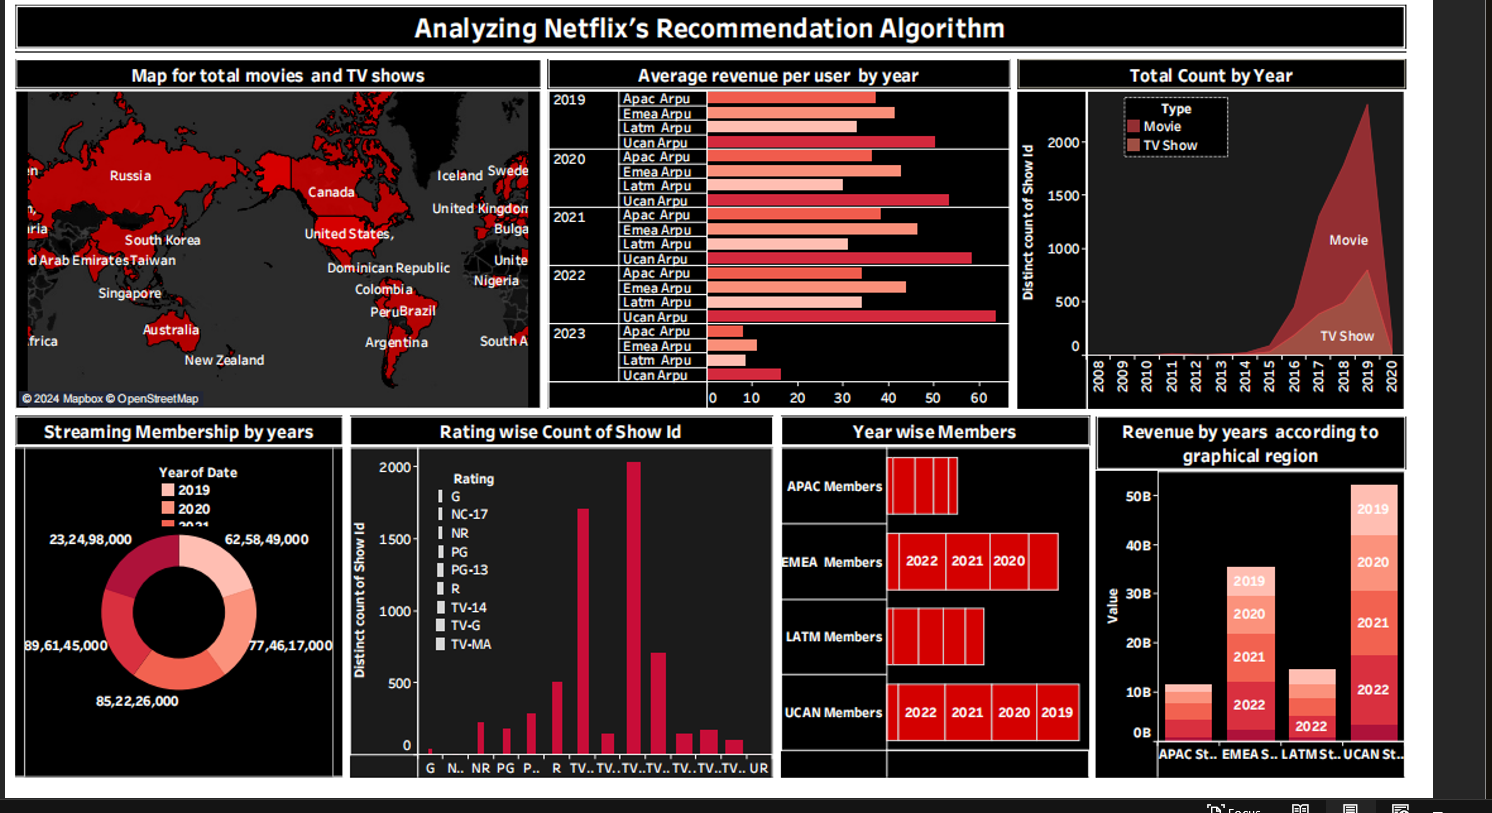

Layout of this report page (visuals, bound fields, positions):
{"tool":"tableau","page":{"name":"Dashboard 1","canvas":[1600,900],"ordinal":0},"visuals":[{"type":"worksheet","title":"Title ","mark":"Text","box":[8,8,1584,61]},{"type":"worksheet","title":"Map for total movies  and TV shows","mark":"Multipolygon","box":[8,69,604,404.7]},{"type":"worksheet","title":"Average revenue per user  by year","mark":"Bar","rows":["Date"],"box":[612,69,531.7,404.7]},{"type":"worksheet","title":"Total Count by Year","mark":"Area","rows":["show_id"],"cols":["date_added"],"box":[1143.7,69,448.3,404.7]},{"type":"legend","title":"Total Count by Year","param":"[federated.0okvbxa0sae50n101g6gw0klxju4].[none:type:nk]","box":[1269,116,118,68]},{"type":"worksheet","title":"Streaming Membership by years","mark":"Pie","rows":["Calculation_741405095042322433","Calculation_741405095043055619"],"box":[8,473.7,379.3,418.3]},{"type":"worksheet","title":"Rating wise Count of Show Id","mark":"Automatic","rows":["show_id"],"cols":["rating"],"box":[387.3,473.7,488.3,418.3]},{"type":"worksheet","title":"Year wise Members ","mark":"Bar","box":[875.6,473.7,358.2,418.3]},{"type":"worksheet","title":"revenue by year ","mark":"Bar","box":[1233.8,473.7,358.2,418.3]},{"type":"legend","title":"Streaming Membership by years","param":"[federated.1mhz30i1mz4dk916qjzma1iexdan].[yr:Date:ok]","box":[175,529.2,154,72.9]},{"type":"legend","title":"Rating wise Count of Show Id","param":"[federated.0okvbxa0sae50n101g6gw0klxju4].[none:rating:nk]","box":[482,536,99,212]}]}

Visuals, with their boxes in screenshot pixels (x1, y1, x2, y2):
"Title " worksheet (Text marks): 0:0:1409:54
"Map for total movies  and TV shows" worksheet (Multipolygon marks): 0:54:537:414
"Average revenue per user  by year" worksheet (Bar marks): 537:54:1010:414
"Total Count by Year" worksheet (Area marks): 1010:54:1409:414
"Total Count by Year" legend: 1121:95:1226:156
"Streaming Membership by years" worksheet (Pie marks): 0:414:337:786
"Rating wise Count of Show Id" worksheet: 337:414:771:786
"Year wise Members " worksheet (Bar marks): 771:414:1090:786
"revenue by year " worksheet (Bar marks): 1090:414:1409:786
"Streaming Membership by years" legend: 148:463:285:528
"Rating wise Count of Show Id" legend: 421:469:509:658
